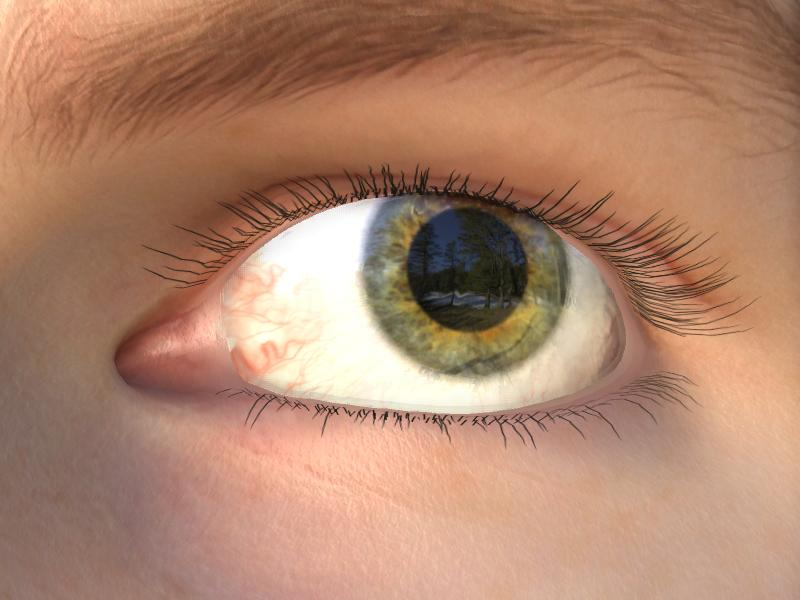eye: (364, 190, 571, 378)
